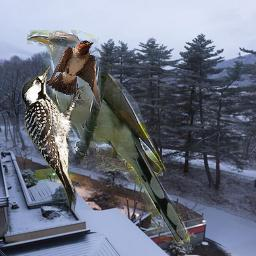Cuckoo: (27, 30, 190, 245)
Swallow: (46, 40, 101, 109)
Woodpecker: (21, 66, 89, 212)
